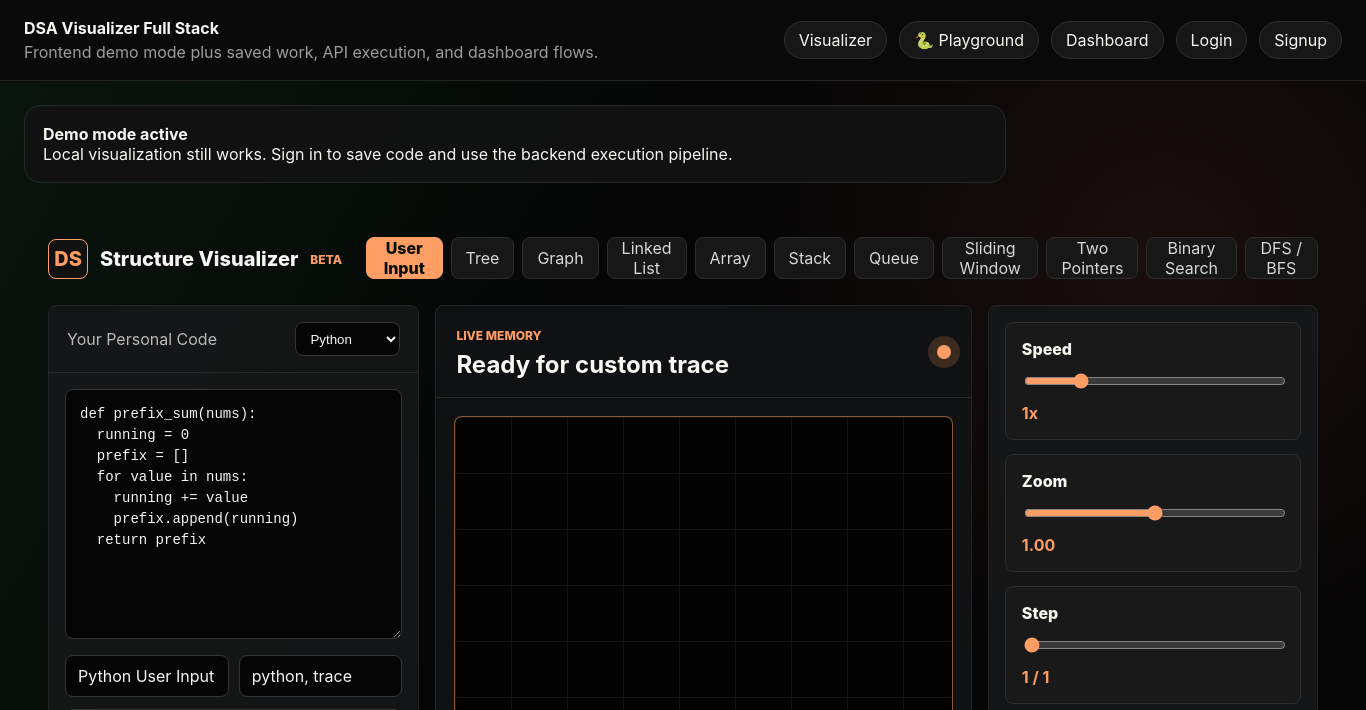
Test: client app › signup validation shows error for short name
Click the link "Signup" at (1301, 40), box [1259,21,1342,59]
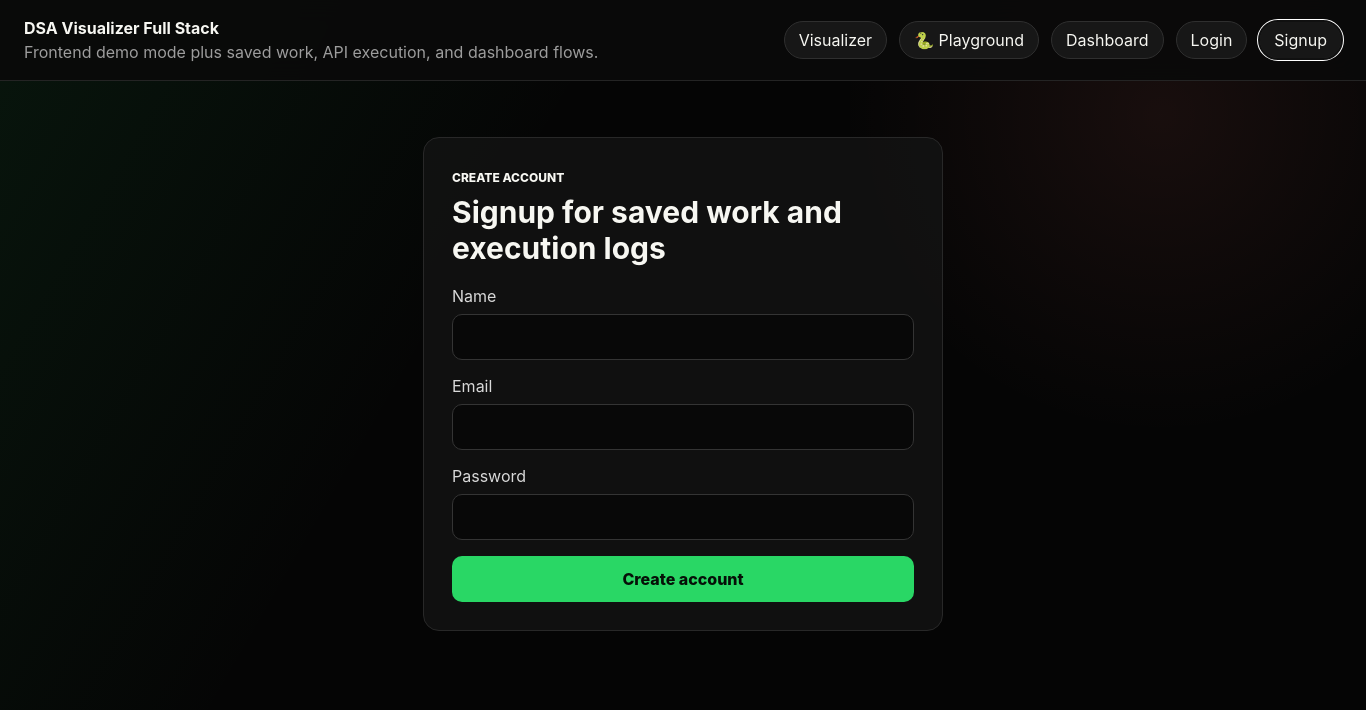
Type "A" into the field labelled "Name" at (683, 337), box [452,314,914,360]
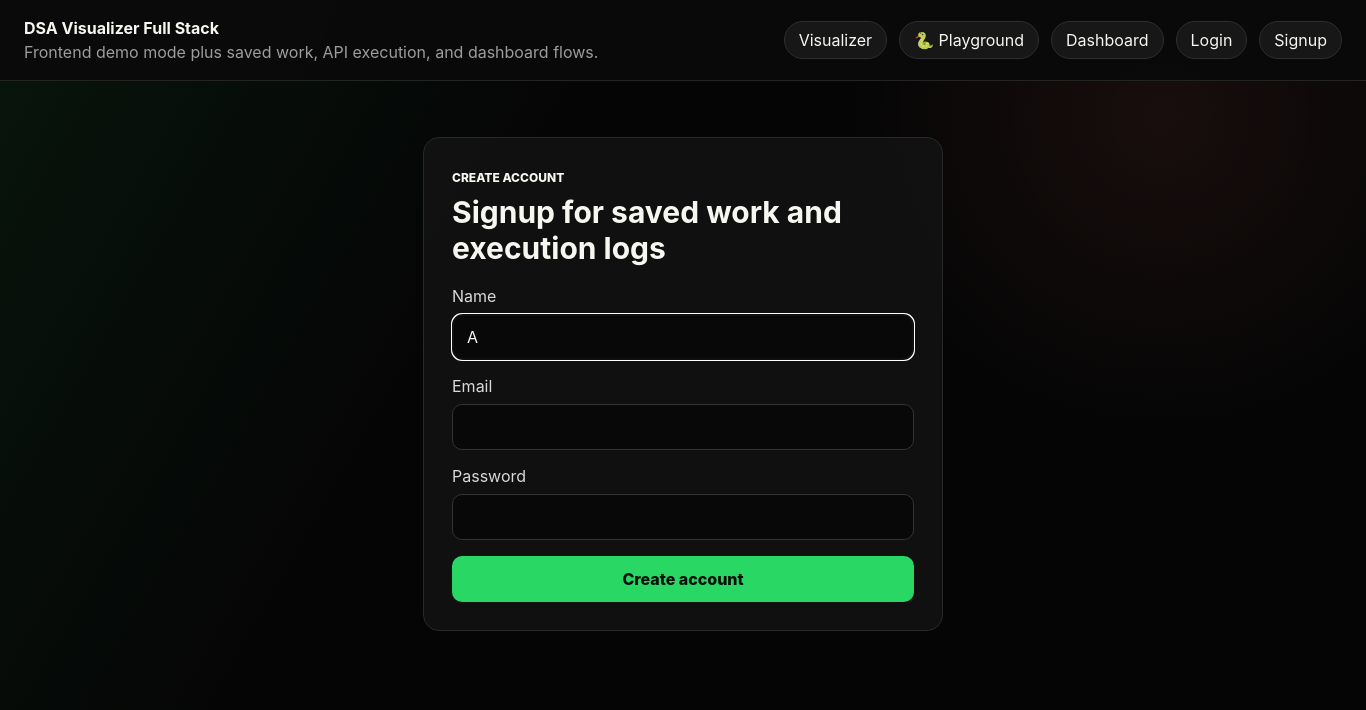
Type "user@example.com" into the field labelled "Email" at (683, 427), box [452,404,914,450]
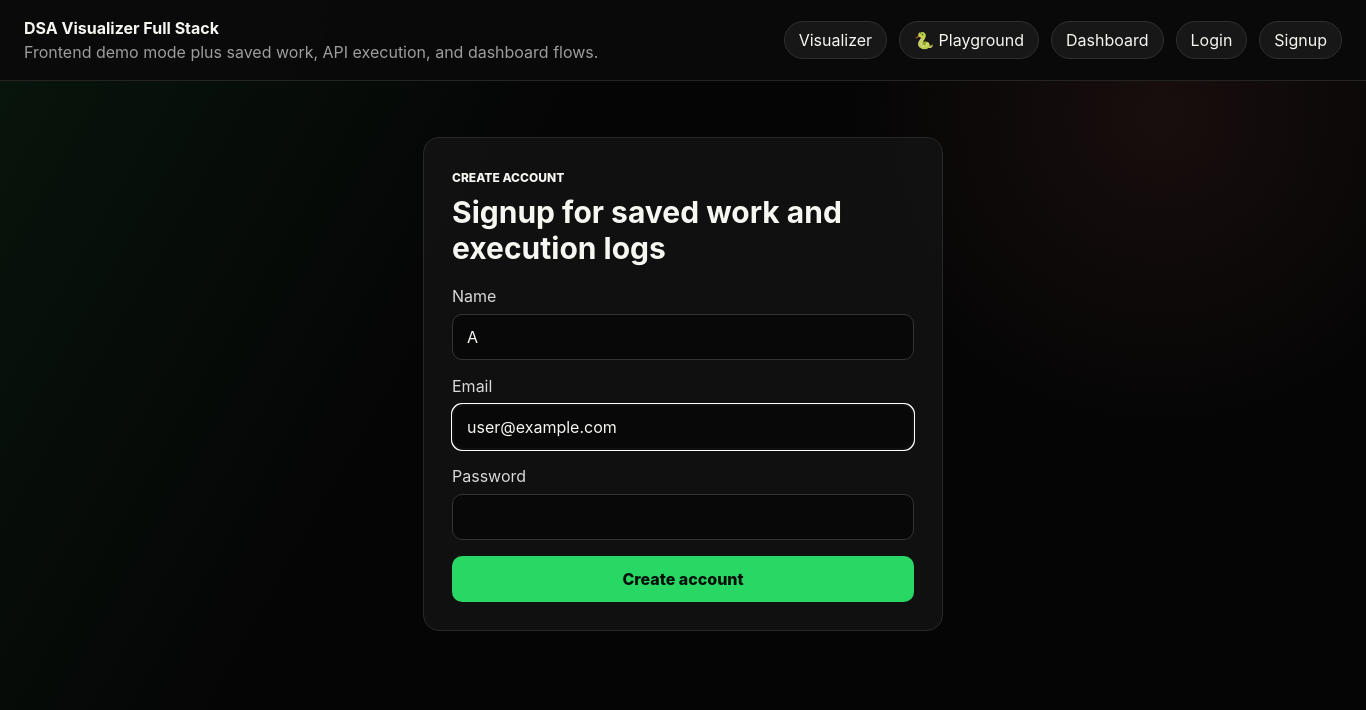
Type "SecurePass123!" into the password field labelled "Password" at (683, 517), box [452,494,914,540]
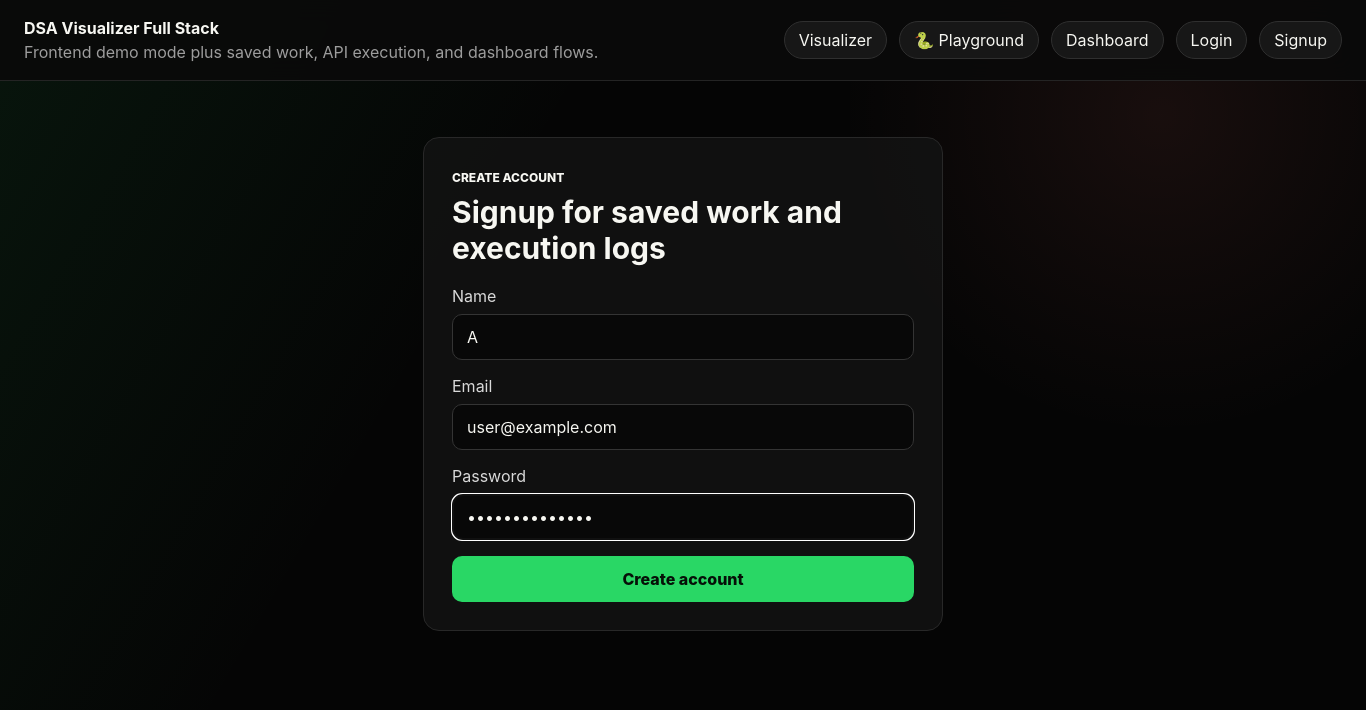
Click the button "Create account" at (683, 579), box [452,556,914,602]
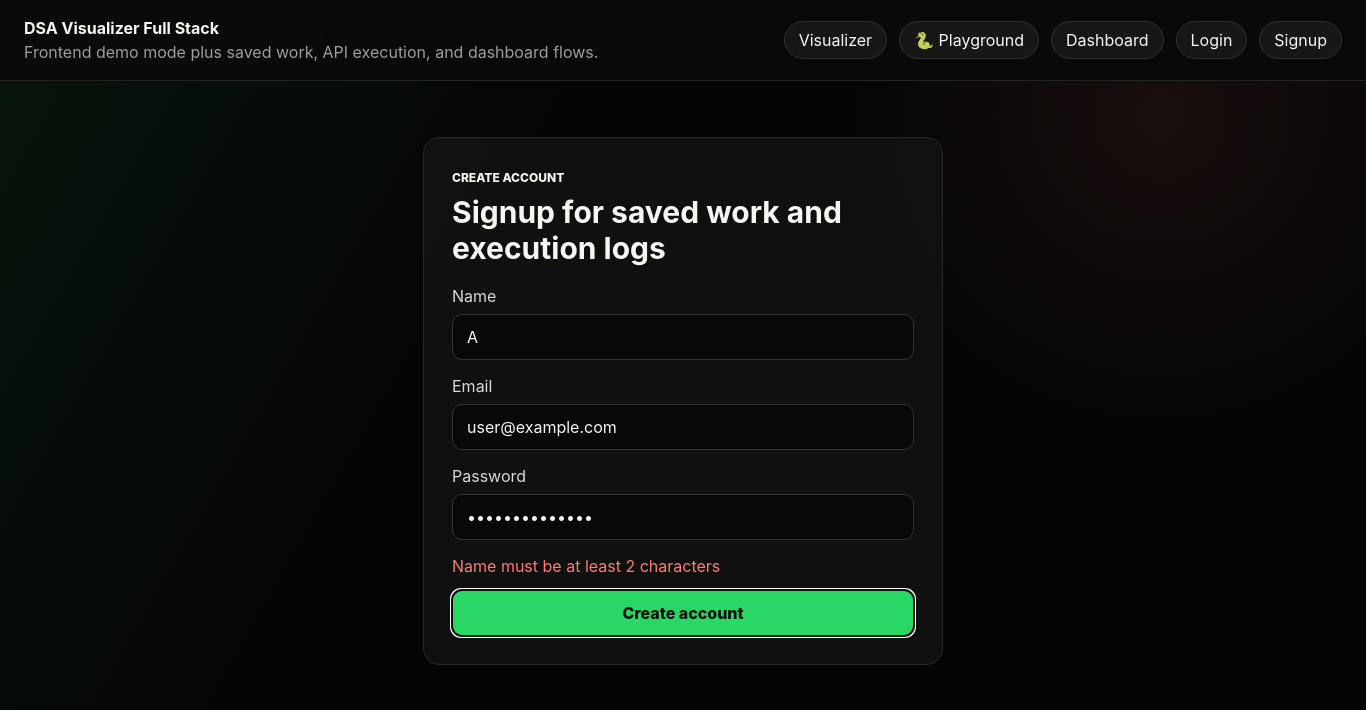
Check: the text "Name must be at least 2 characters" is shown, box [452,556,720,576]
